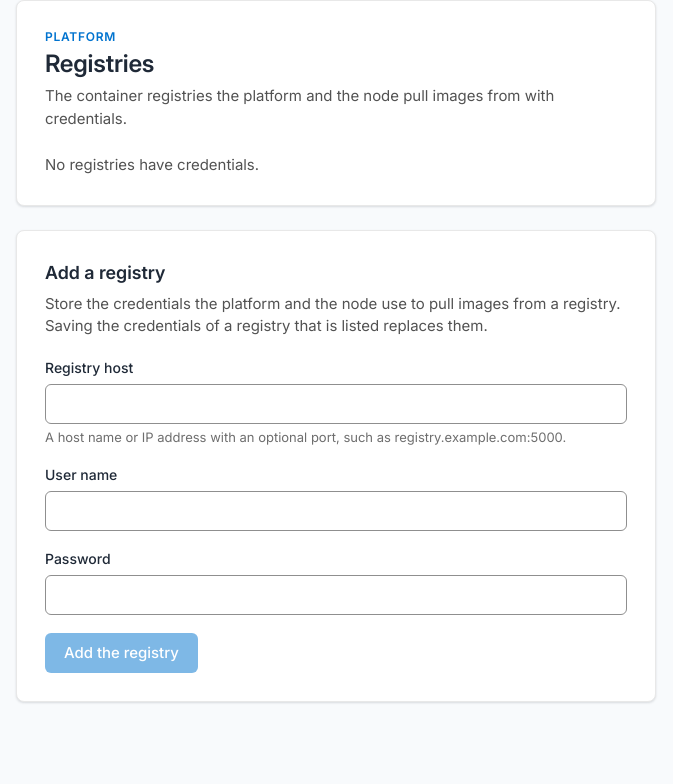
Test case: RegistriesPage › shows other refusals and an unreachable appliance above the form
This screenshot has width=673, height=784.
expect the text "No registries have credentials." is shown: met, box [45, 155, 259, 174]
Type "bad" into the field labelled "Registry host" at (336, 404), box [45, 384, 627, 424]
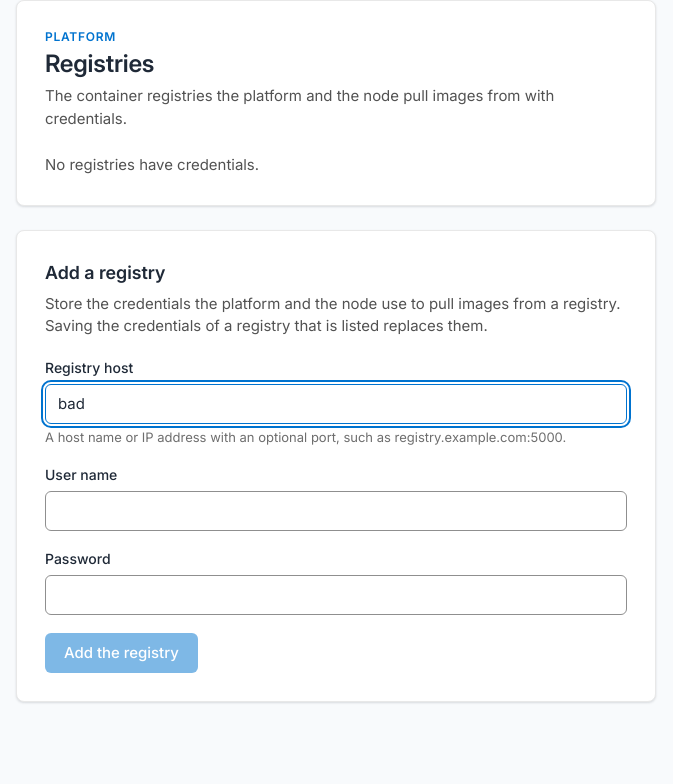
Type "u" into the field labelled "User name" at (336, 511), box [45, 491, 627, 531]
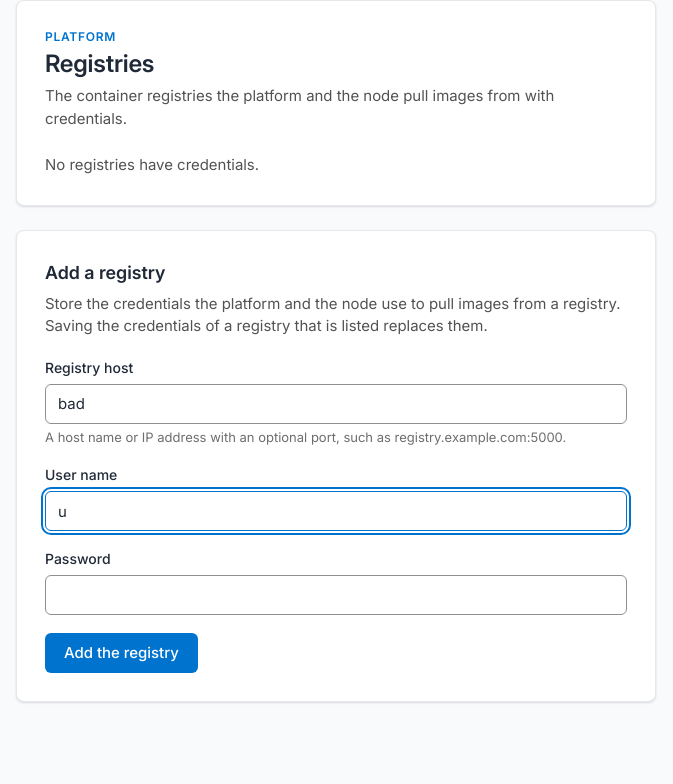
Click the button "Add the registry" at (121, 653), box [45, 633, 198, 673]
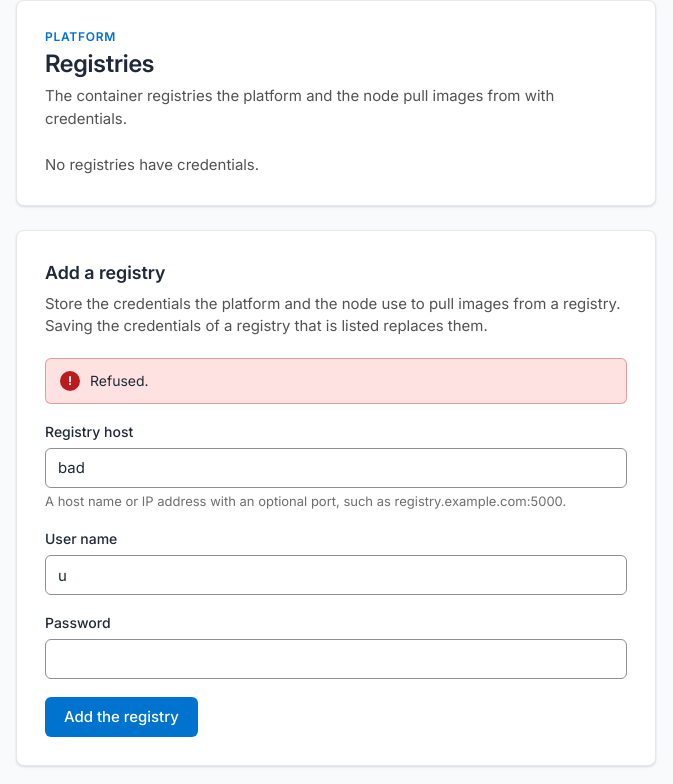
expect the message shows "Refused.": met, box [90, 372, 149, 388]
Click the button "Add the registry" at (121, 717), box [45, 697, 198, 737]
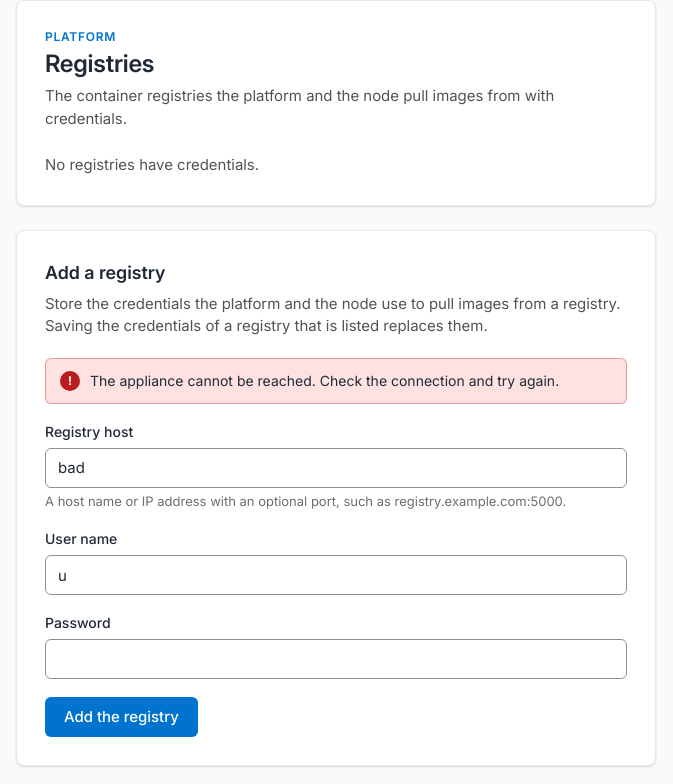
expect the text "cannot be reached" is shown: met, box [90, 372, 559, 388]
